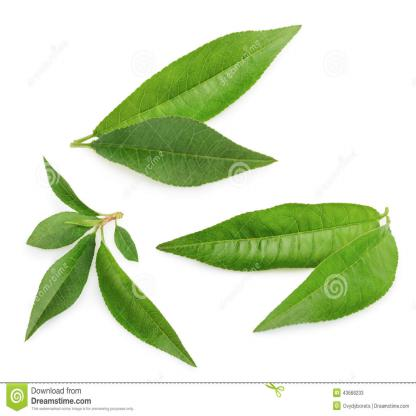peach leaf: (90, 22, 305, 141), (152, 195, 385, 284), (252, 221, 400, 333), (86, 113, 281, 186), (97, 240, 198, 370), (24, 234, 96, 348), (42, 155, 100, 216), (20, 211, 98, 249), (114, 222, 140, 263)
